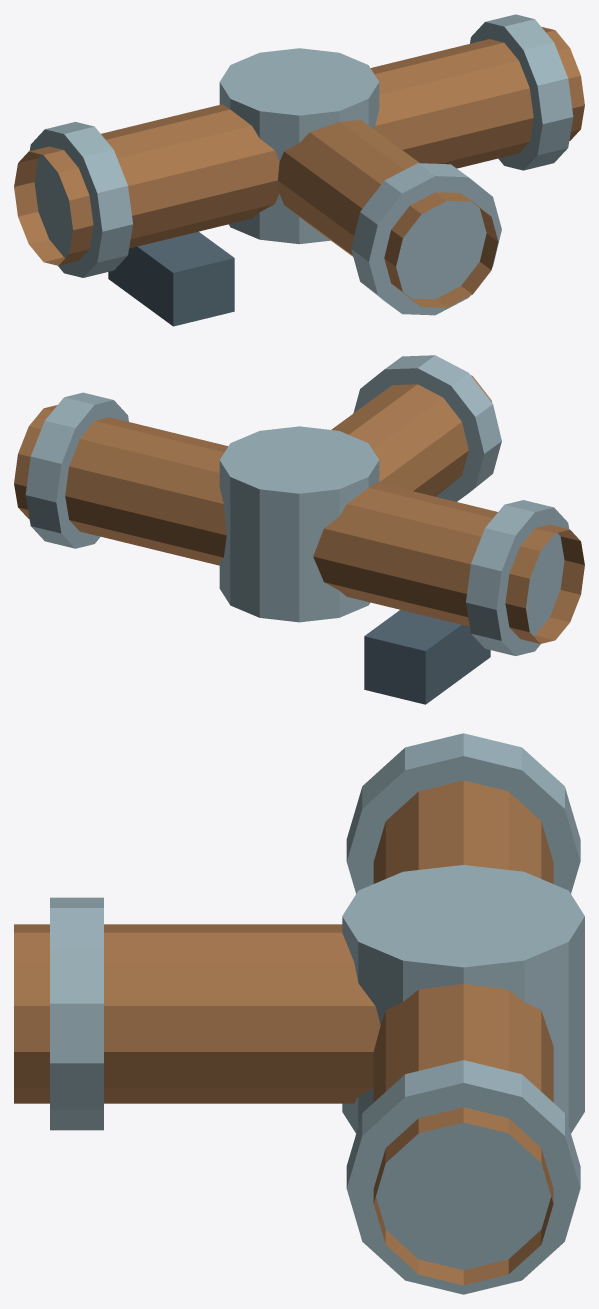
Rendered from pipe_tee.glb.
3 renders of one model, top to bottom at view 1: azimuth 30°, elevation 25°; view 2: azimuth 150°, elevation 25°; view 3: azimuth 270°, elevation 25°, orthographic. The views are drawn at different scales.
Parts seen in each view (by area): view 1: ThroughPipe, Coupling.002, Joint, Branch, Coupling, Mount, Coupling.001; view 2: ThroughPipe, Joint, Coupling, Branch, Mount, Coupling.001, Coupling.002; view 3: Branch, Coupling.001, Joint, ThroughPipe, Coupling, Coupling.002.
Boxes of the visible parts, x1,y1,x2,y2 form: ThroughPipe: [14, 27, 584, 265]; Coupling.002: [351, 163, 501, 315]; Joint: [219, 48, 379, 244]; Branch: [278, 120, 498, 307]; Coupling: [29, 122, 132, 277]; Mount: [108, 231, 234, 326]; Coupling.001: [470, 14, 573, 170]; ThroughPipe: [14, 405, 584, 643]; Joint: [219, 426, 379, 622]; Coupling: [466, 500, 569, 655]; Branch: [331, 375, 491, 496]; Mount: [364, 610, 490, 704]; Coupling.001: [25, 392, 128, 548]; Coupling.002: [353, 355, 501, 501]; Branch: [14, 924, 380, 1103]; Coupling.001: [346, 1060, 580, 1294]; Joint: [342, 865, 584, 1133]; ThroughPipe: [373, 780, 553, 1285]; Coupling: [346, 733, 580, 893]; Coupling.002: [50, 897, 103, 1130].
Size of the model in its own units: 2 by 0.7 by 1.27.
